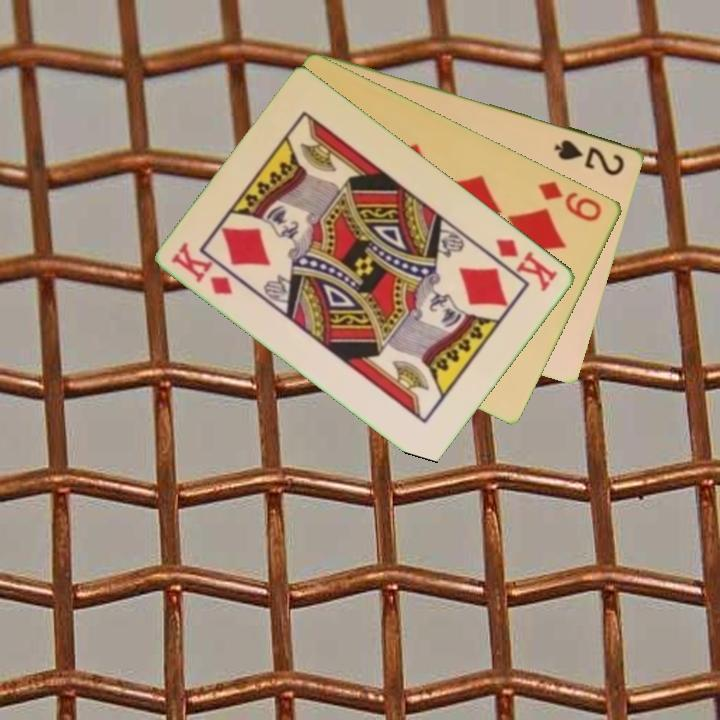2s: (551, 135, 628, 178)
9d: (535, 177, 606, 224)
Kd: (493, 234, 561, 295), (168, 238, 236, 298)
